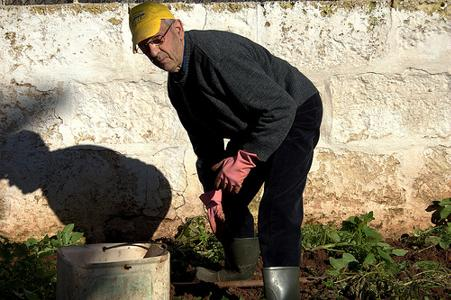person: (128, 1, 327, 298)
